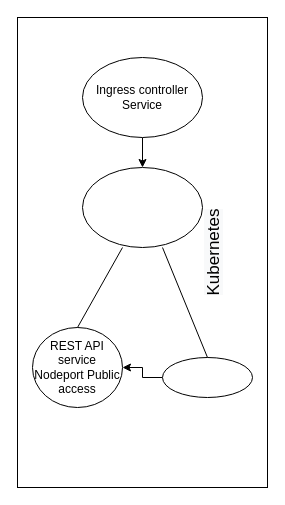
Image size: 285x505. Some labels were removed from this diagram. Here are the shapes that lost their labels. From the top down, the box of each, then its label:
(82, 166, 202, 248): Angular Service Public access Load balancer
(162, 356, 252, 398): MySql Service
